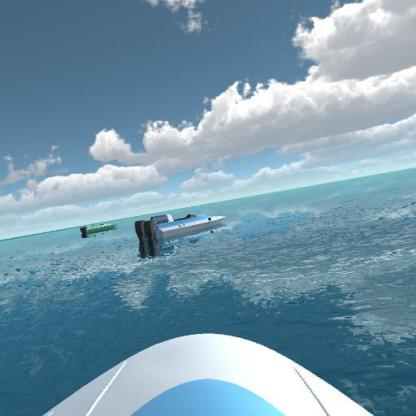usv0: (75, 219, 123, 239)
usv1: (132, 208, 233, 249)
